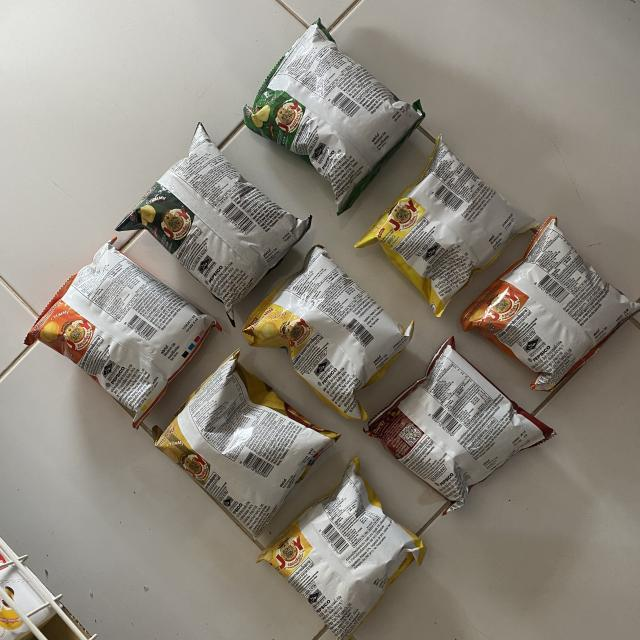plastik: (116, 124, 311, 325), (25, 238, 219, 428), (244, 20, 425, 214), (156, 351, 339, 539), (355, 136, 538, 316), (366, 338, 555, 510), (461, 216, 640, 390), (258, 458, 425, 640), (242, 245, 414, 420)
